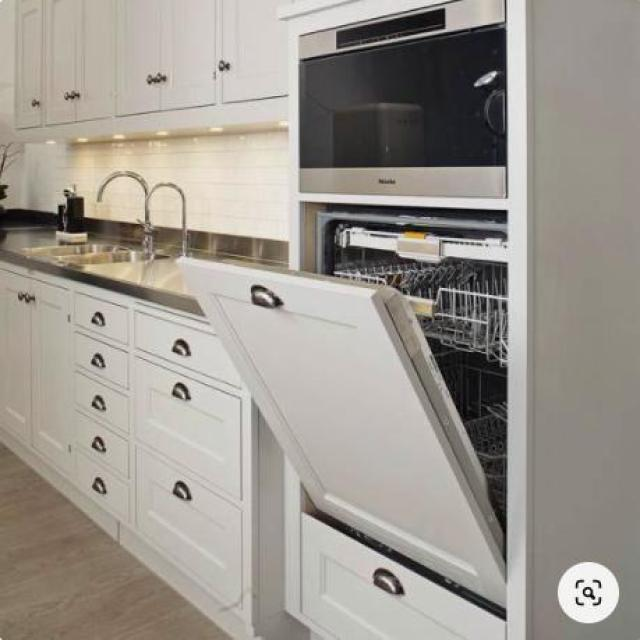dishwasher: (169, 191, 516, 626)
